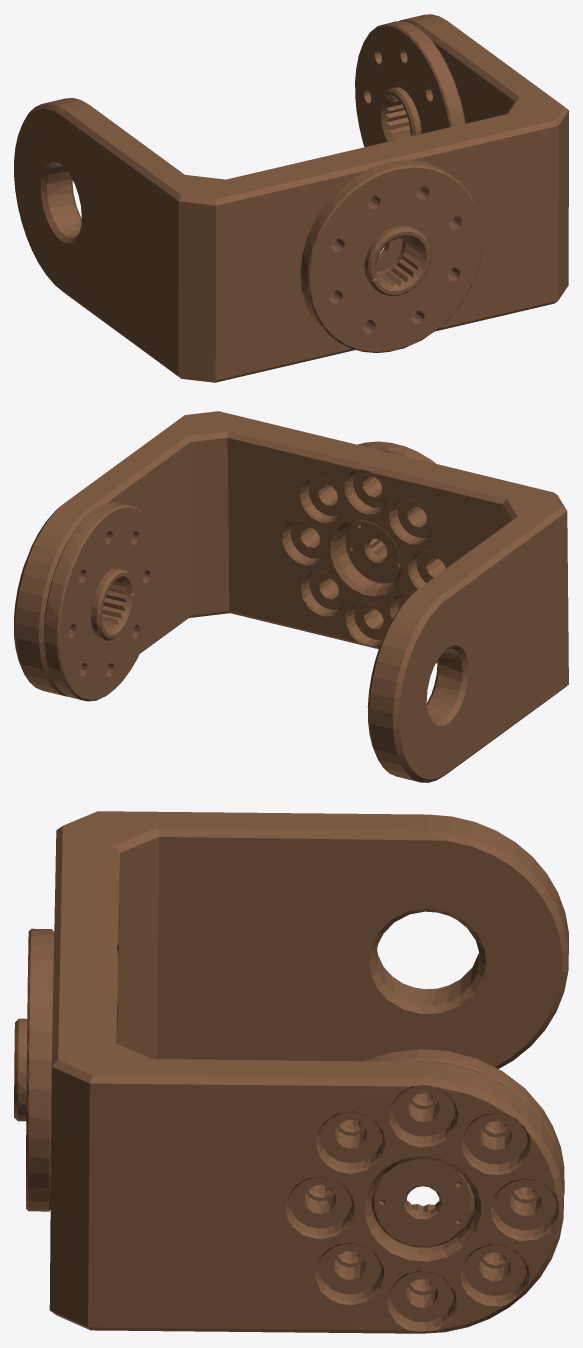
File: connect.fbx
3 renders of one model, top to bottom at view 1: azimuth 30°, elevation 25°; view 2: azimuth 150°, elevation 25°; view 3: azimuth 270°, elevation 25°, orthographic. The views are drawn at different scales.
Parts seen in each view (by area): view 1: connect; view 2: connect; view 3: connect.
Boxes of the visible parts, x1,y1,x2,y2 form: connect: (14, 14, 568, 382); connect: (14, 411, 568, 782); connect: (14, 811, 568, 1333).
Bounding box in the file's own units: 4.94 × 2.25 × 4.32.
